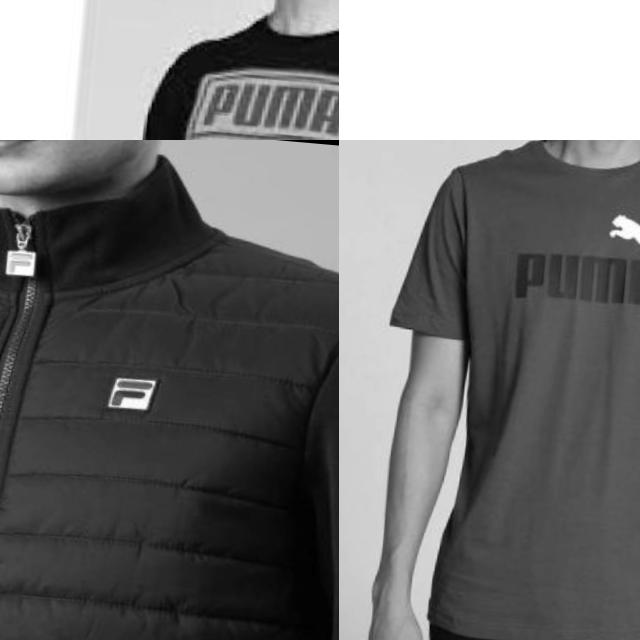FILA_original: (78, 362, 180, 434)
NIKE_fake: (339, 0, 640, 140)
PUMA_original: (498, 188, 640, 320), (176, 71, 339, 140)
